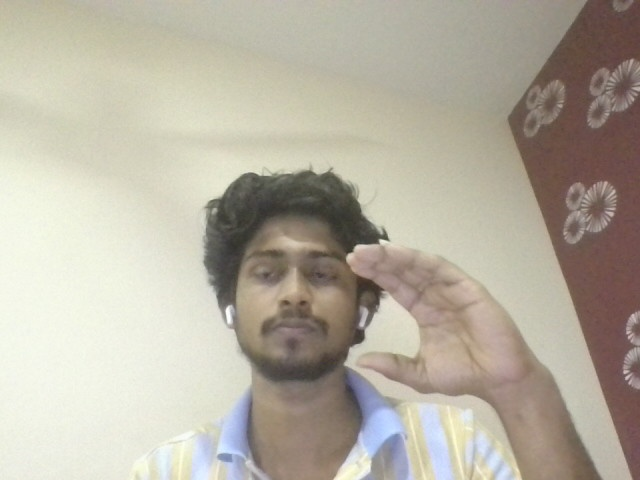No: (334, 236, 583, 394)
